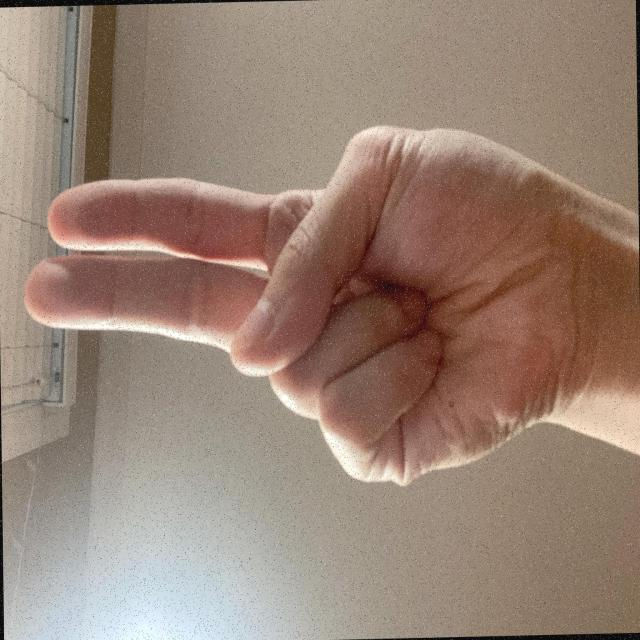U: (101, 21, 396, 640)
